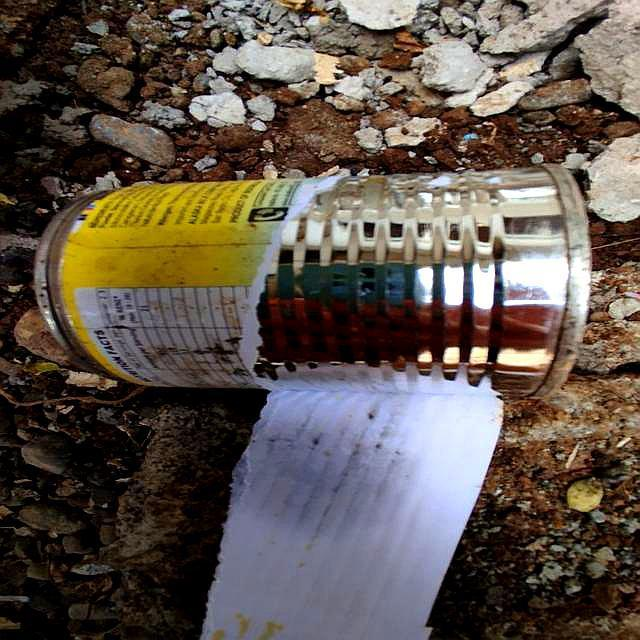Non-biodegradable: (33, 165, 595, 405)
